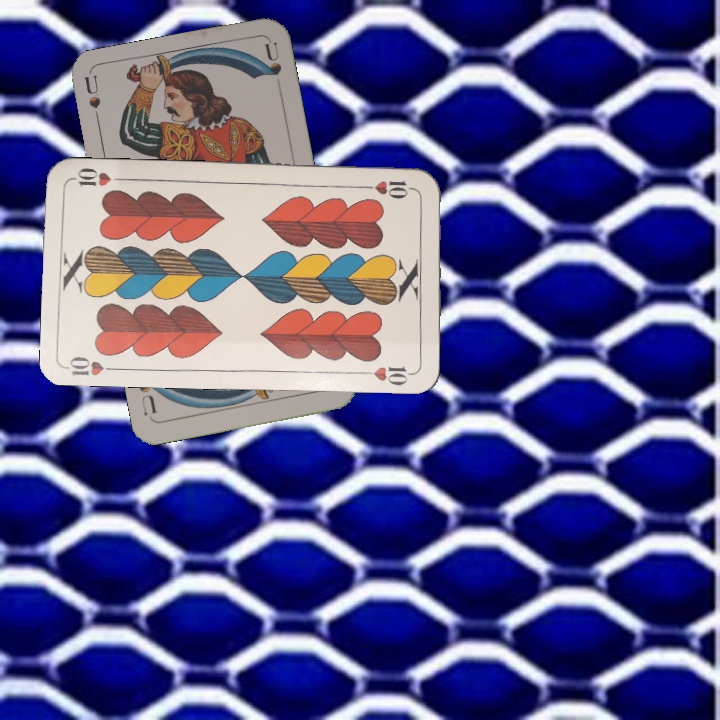H10: (64, 352, 123, 378), (359, 176, 418, 200)
SU: (81, 74, 104, 134)
